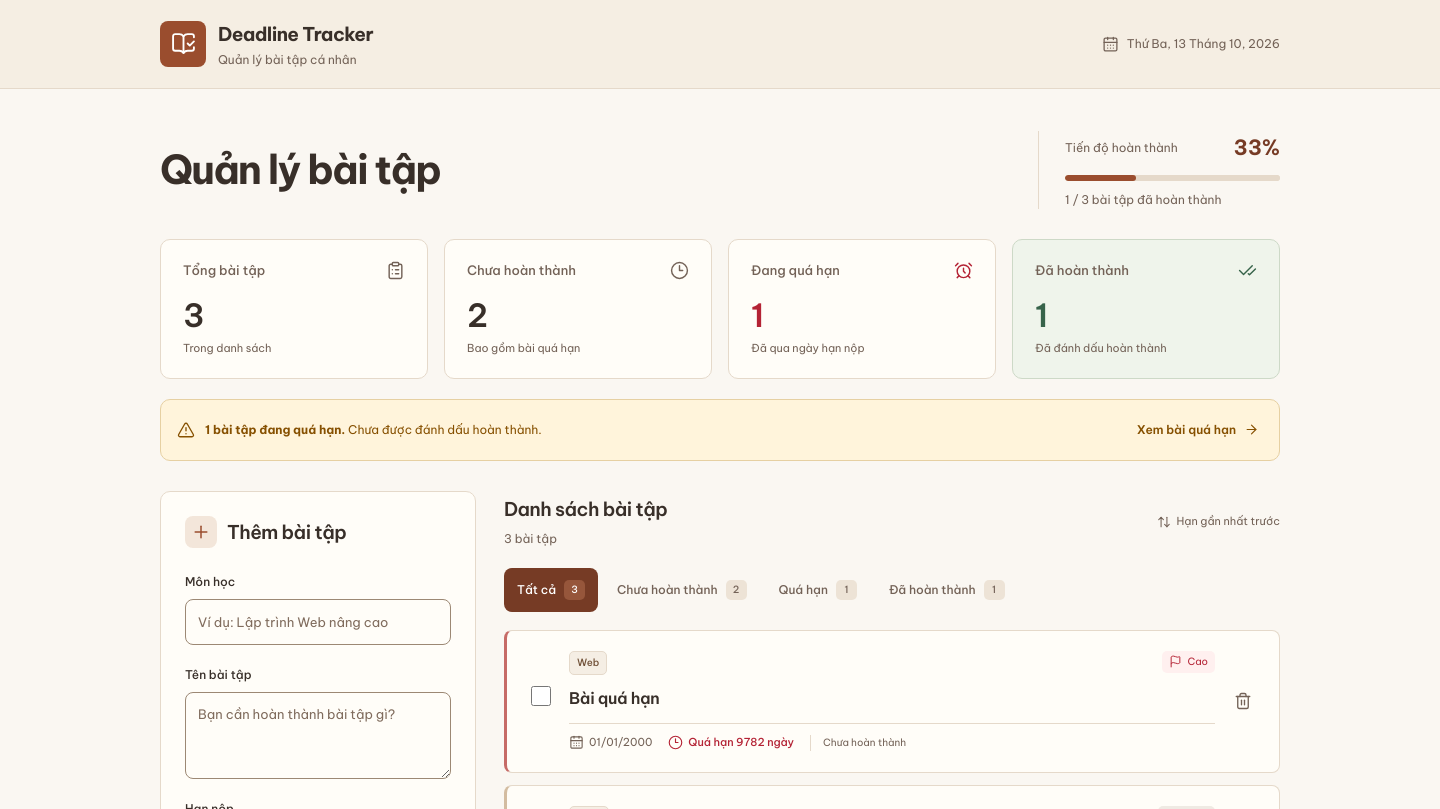
Test case: assignment interface › filters overdue work and lets the user toggle and restore completion
This screenshot has width=1440, height=809.
Expected: the heading "Bài quá hạn" is shown, [569,688,659,708]
Click the button named "Quá hạn," at (818, 590), box [766,568,870,612]
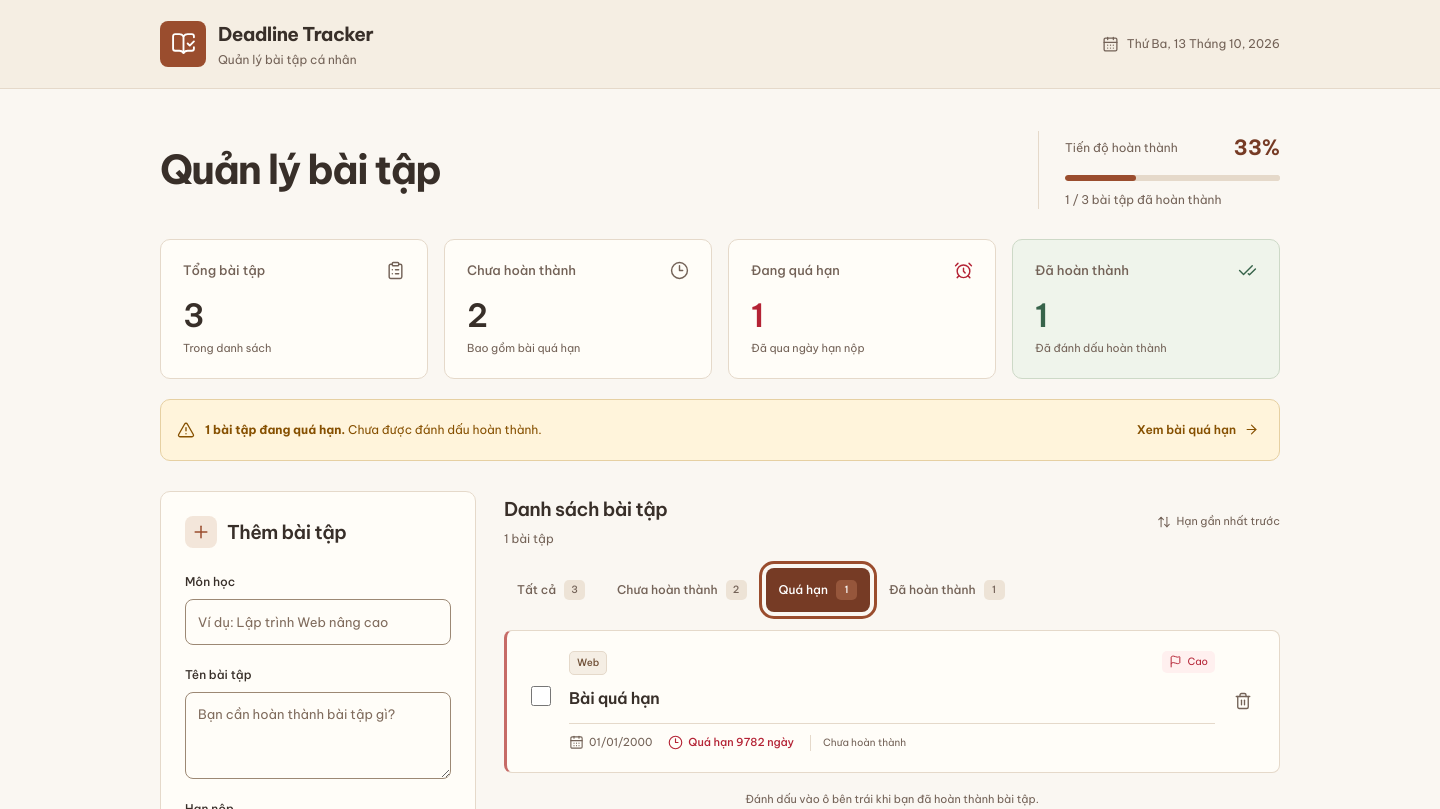
Click the checkbox named "Đánh dấu hoàn thành: Bài quá hạn" at (541, 696), box [531,686,551,706]
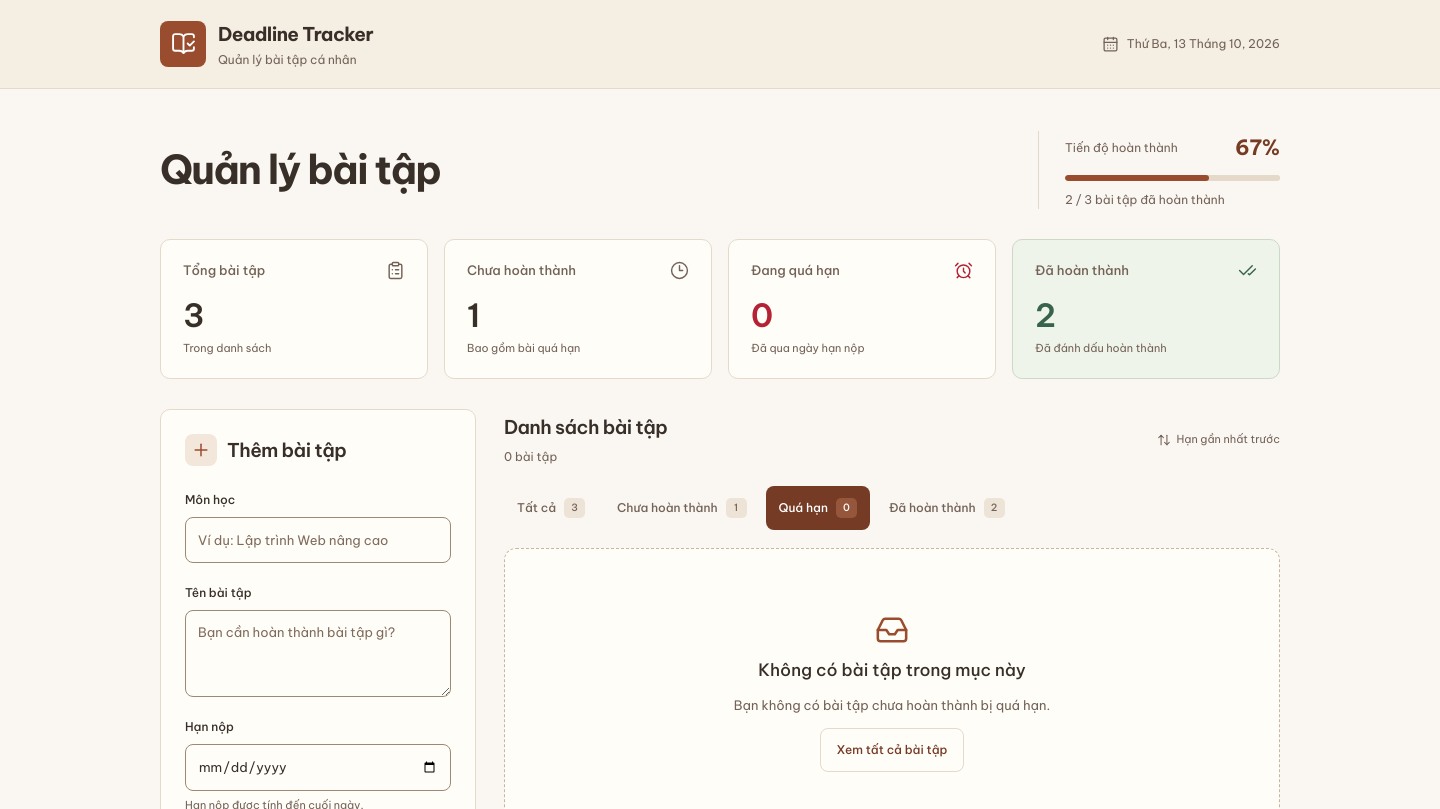
Click the button named "Đã hoàn thành," at (947, 508), box [876,486,1018,530]
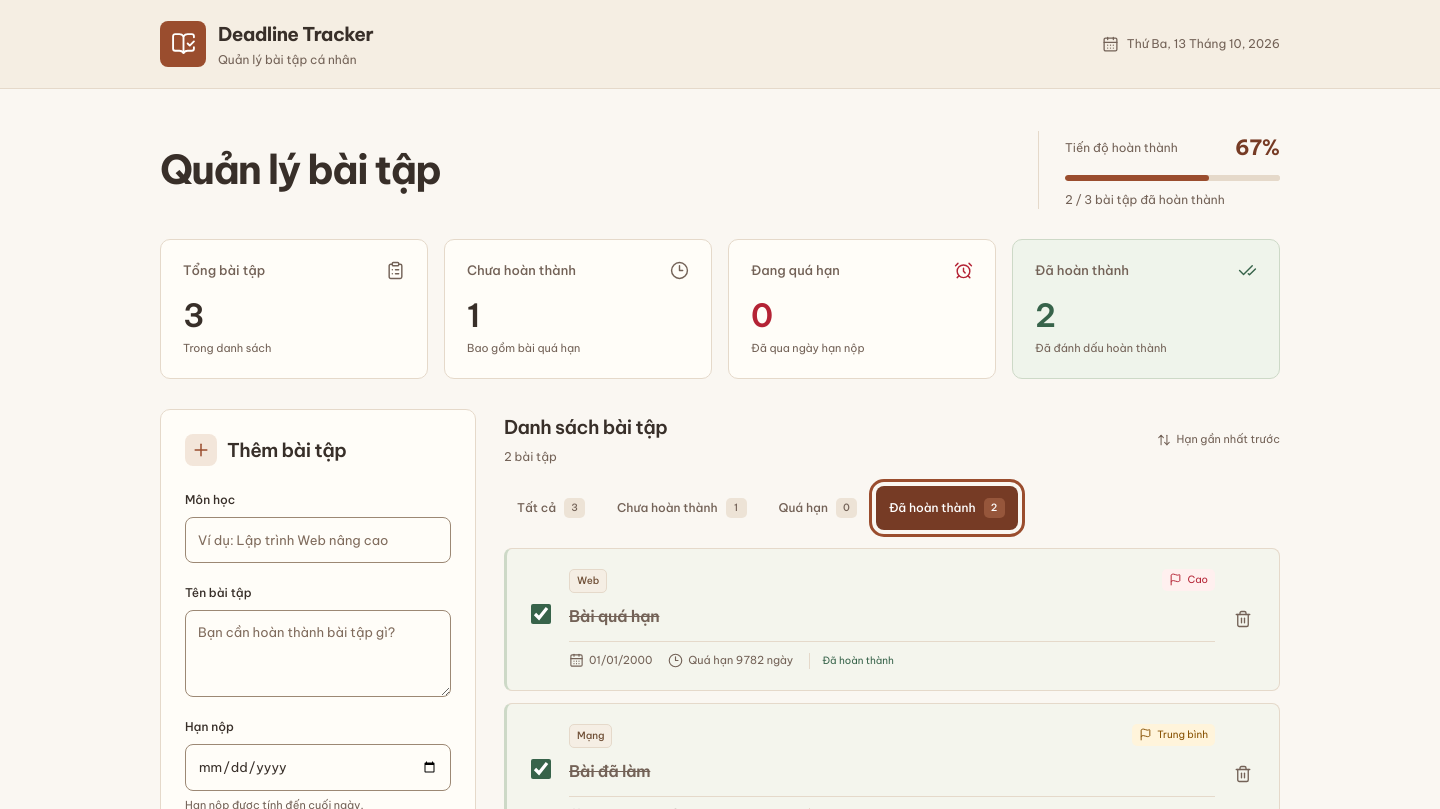
Click the checkbox named "Bỏ đánh dấu hoàn thành: Bài quá hạn" at (541, 614), box [531,604,551,624]
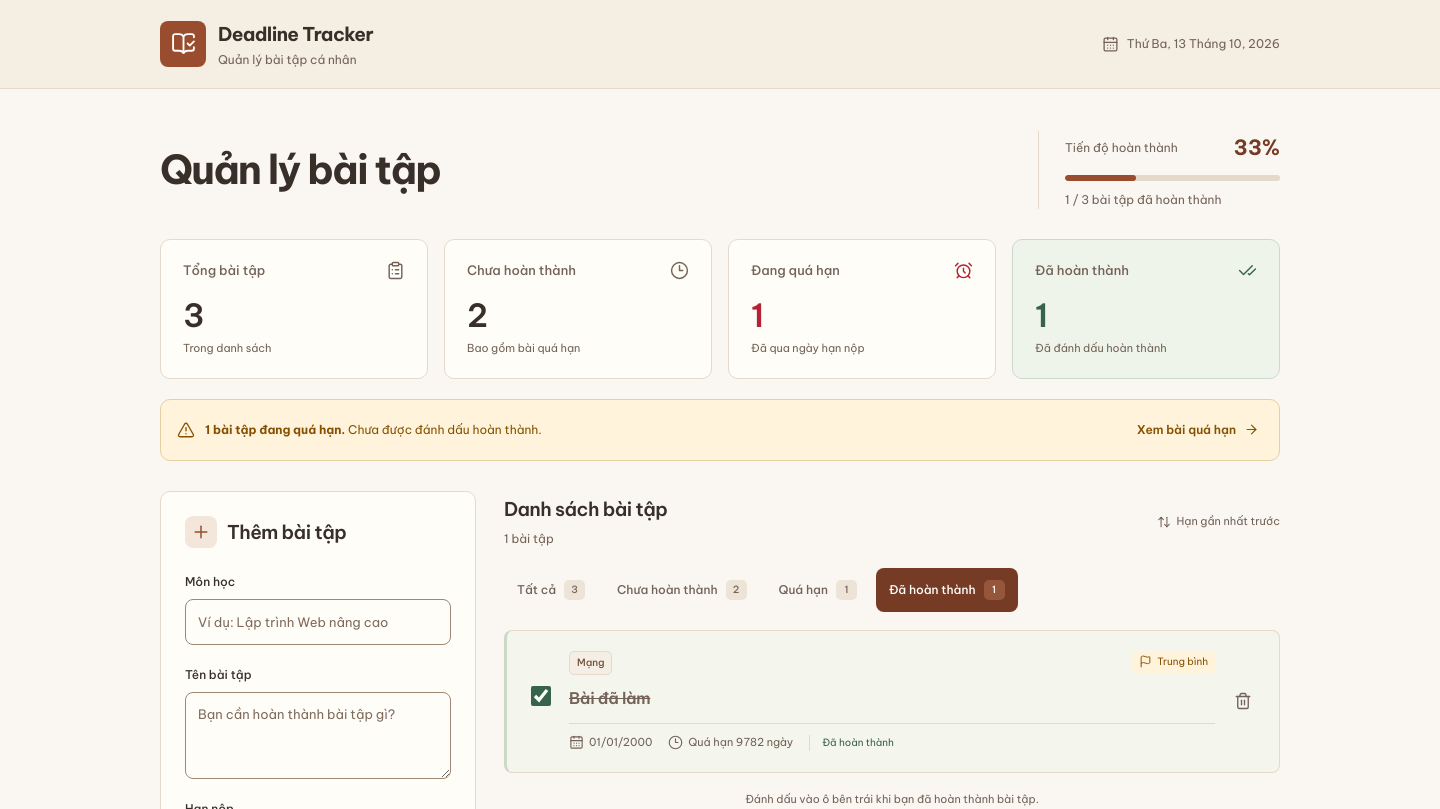
Click the button named "Chưa hoàn thành," at (682, 590), box [604,568,760,612]
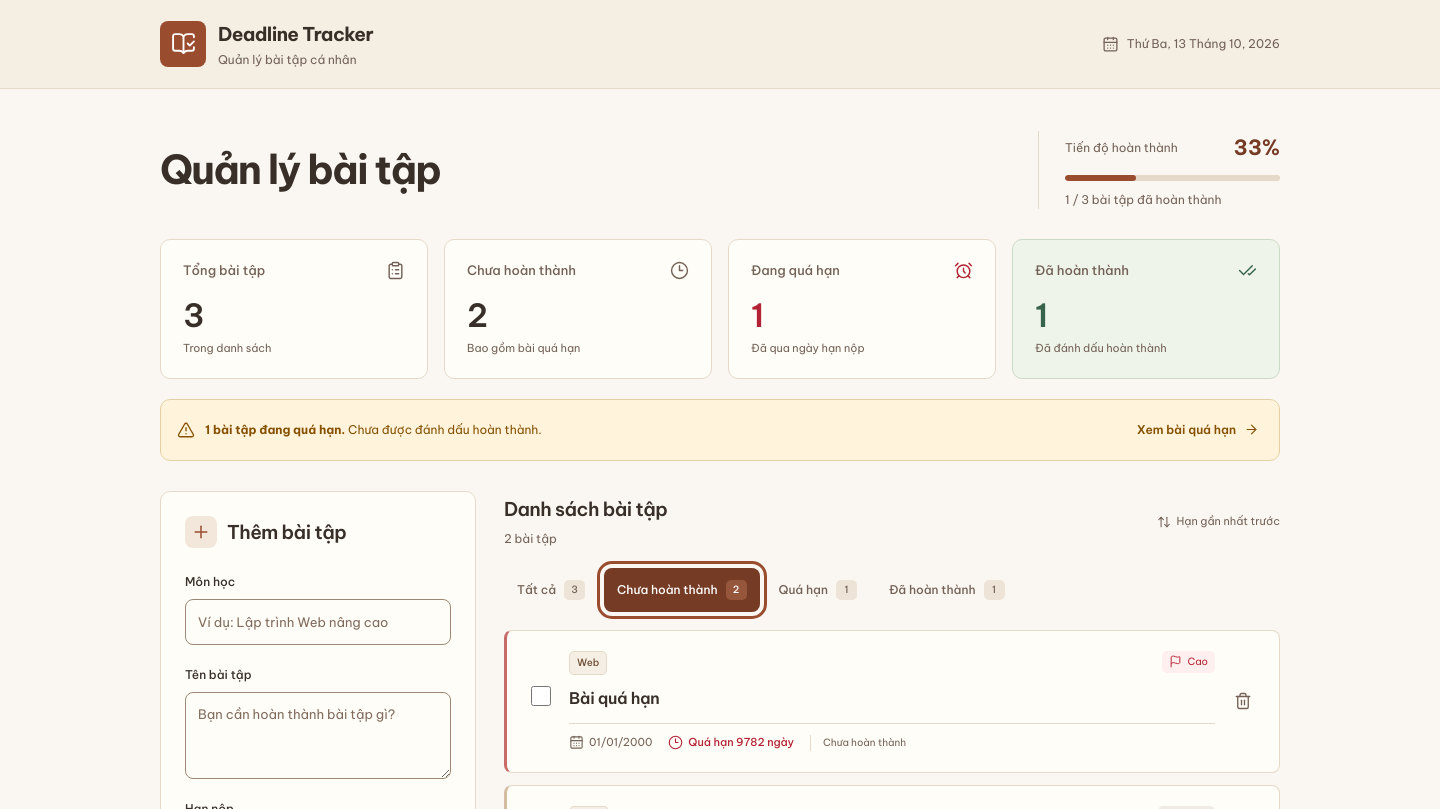
Expected: the heading "Bài quá hạn" is shown, [569,688,659,708]
